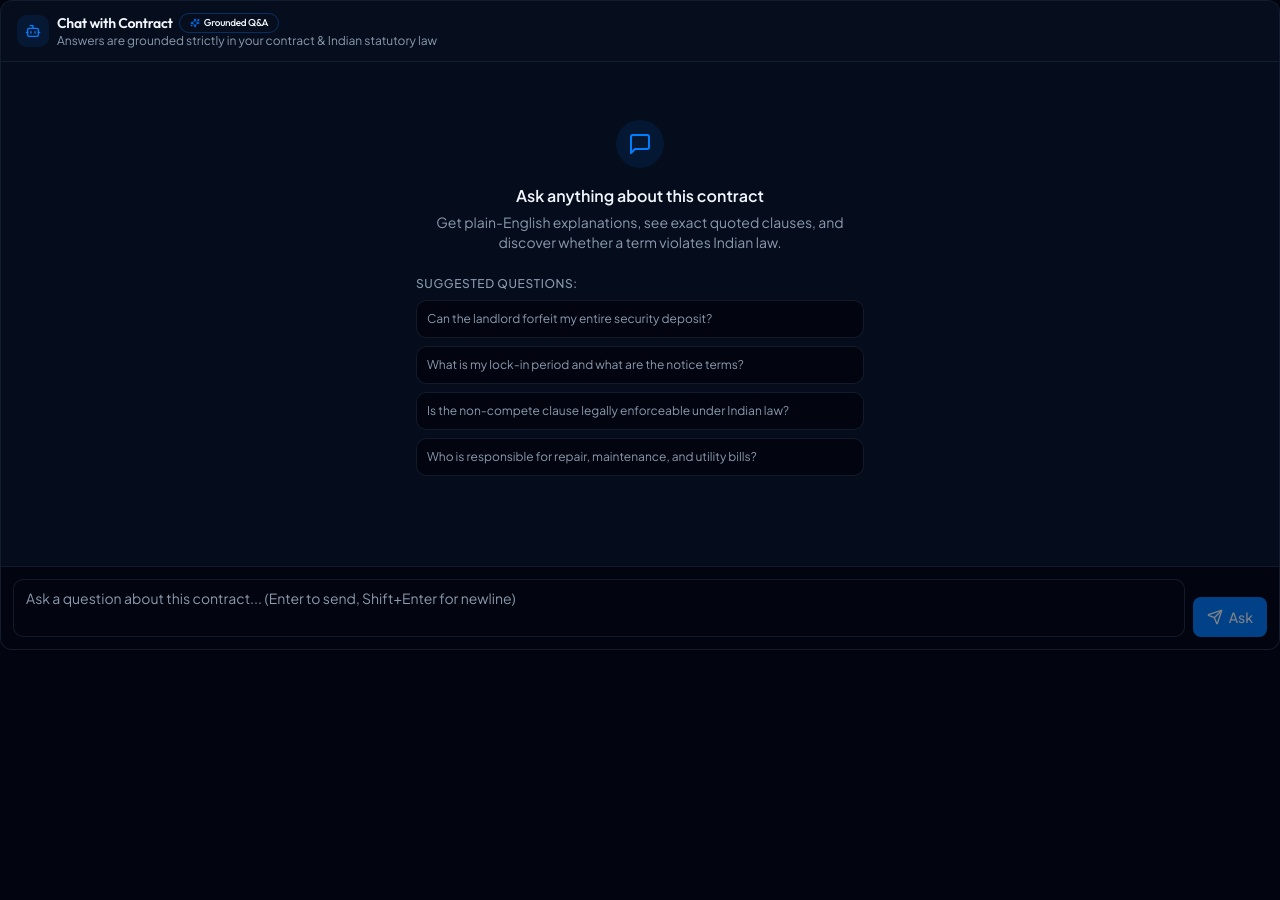
Test: ContractChat › submits a question and displays the grounded response
(page scrolled)
Click the button "Can the landlord forfeit my entire security deposit?" at coordinates (640, 319), box [416,300,864,338]
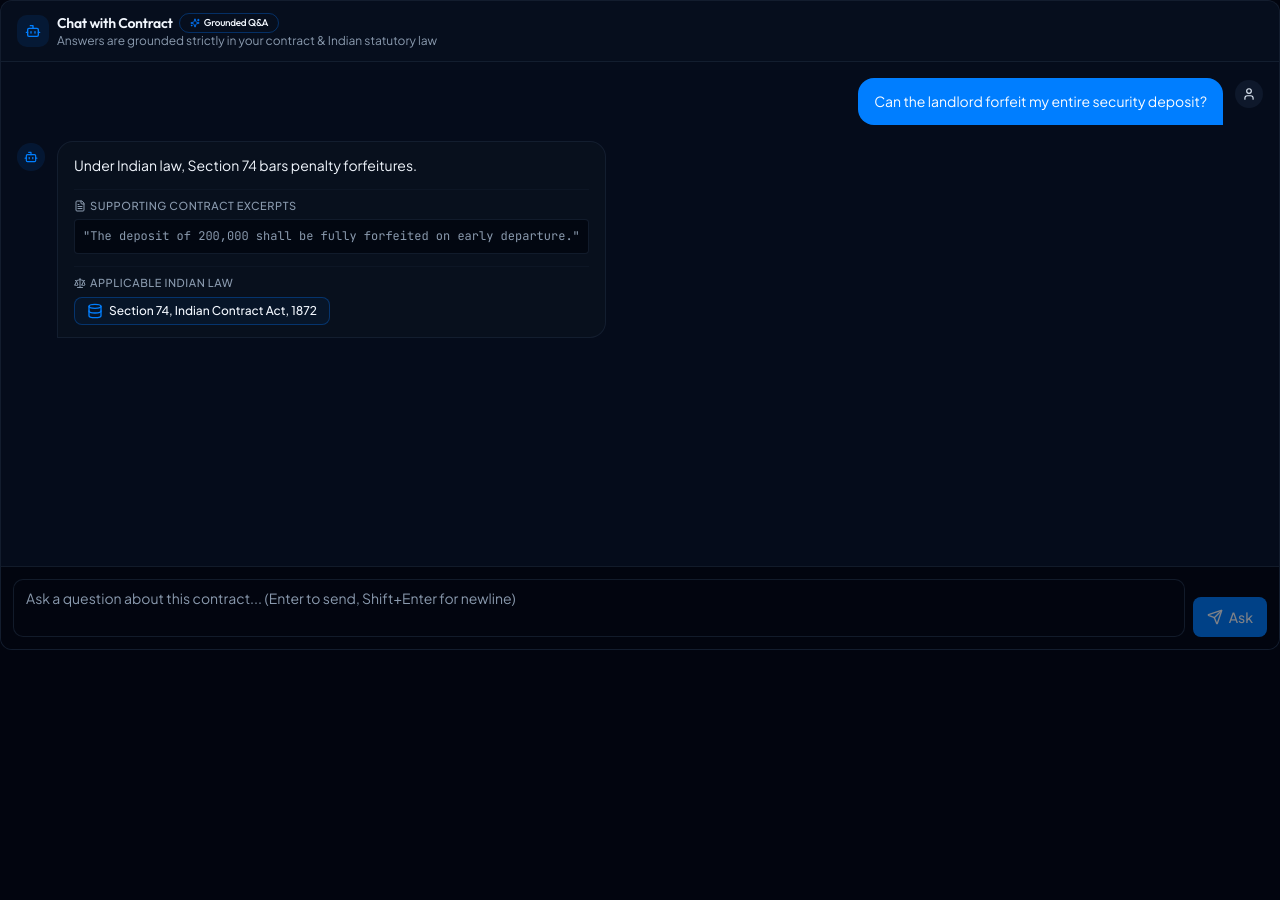
Now the text "Under Indian law, Section 74 bars penalty forfeitures." is shown, box [74,156,417,174]
Now the text "Supporting Contract Excerpts" is shown, box [74,199,297,212]
Now the text "Applicable Indian Law" is shown, box [74,276,233,289]
